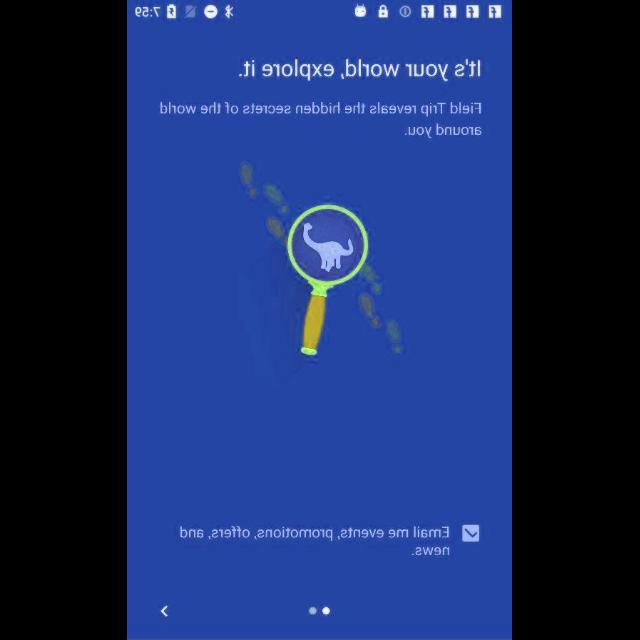checkbox: (462, 524, 480, 542)
icon: (161, 605, 169, 617)
image: (241, 163, 403, 357)
pageindicator: (308, 606, 332, 616)
text: (160, 102, 482, 140), (180, 526, 450, 556), (239, 59, 481, 82)
uppertaskbar: (128, 1, 512, 23)
